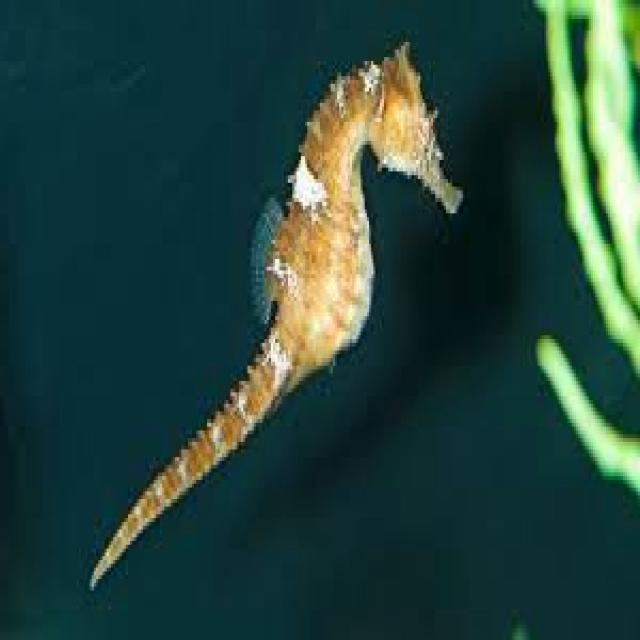seahorse: (94, 42, 463, 583)
